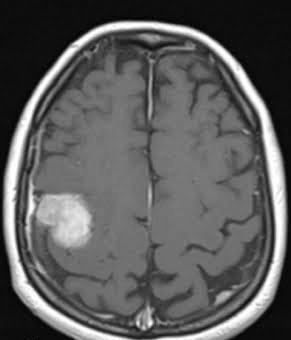Tumour-Meningioma: (26, 167, 108, 269)
